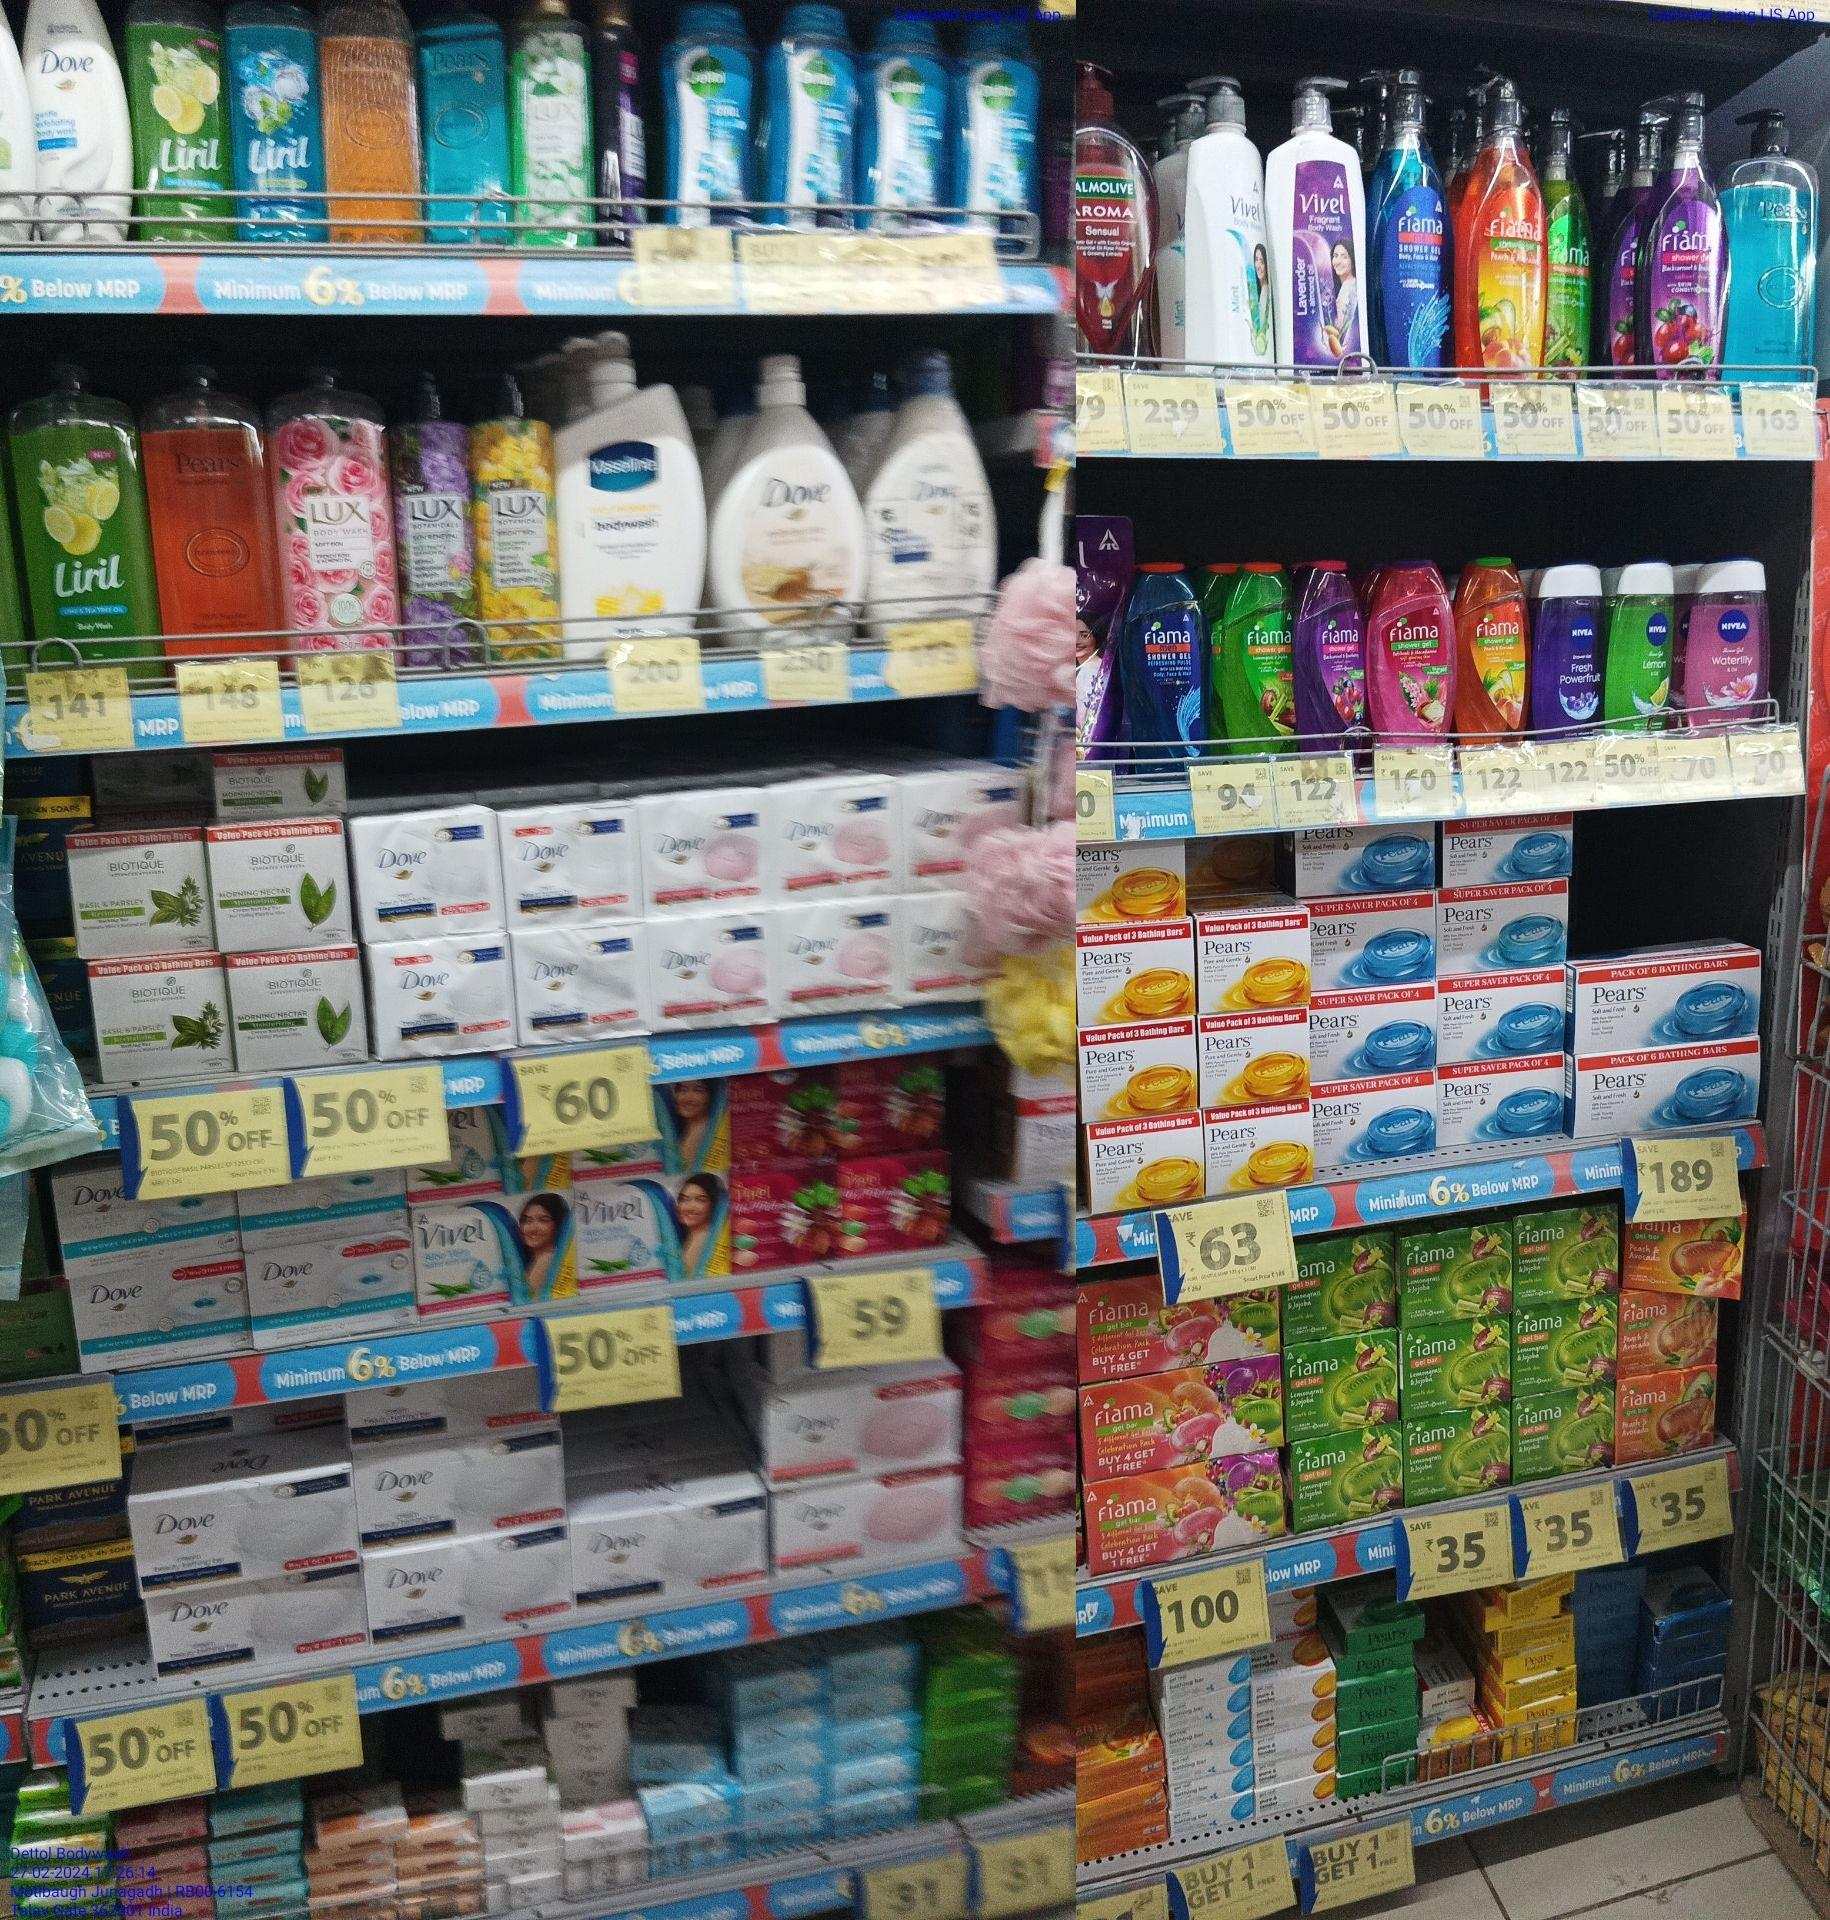Dettol_Bodywash_Cool: (660, 0, 761, 230), (965, 12, 1038, 266), (774, 0, 857, 226), (872, 12, 956, 223)
Dove_Gentle_Exfoliating_Body_Wash_250ML: (22, 0, 127, 247)
Fiama_Shower_Gel_Lemongrass_and_Jojoba_250ML: (1220, 561, 1294, 759)
Fiama_Shower_Gel_Patchouli_and_Macadamia_250ML: (1376, 555, 1456, 746)
Fiama_Shower_Gel_Peach_and_Avocado_250ML: (1458, 552, 1530, 746)
Liril_Cooling_Mint_Body_Wash_250ML: (230, 0, 319, 255)
Liril_Lime_and_Tea_Tree_Oil_Body_Wash_250ML: (132, 7, 226, 252)
Lux_Black_Orchid_Scent_and_Juniper_Oil_Body_Wash_245ML: (595, 0, 649, 255)
Lux_Body_Wash_Skin_Detox_Freesia_Scent_and_Alove_Vera_245ML: (512, 2, 591, 255)
Nivea_Shower_Gel_Fresh_Powerfruit_250ML: (1539, 564, 1607, 730)
Nivea_Shower_Gel_Lemon_and_Oil_250ML: (1618, 559, 1677, 735)
Nivea_Shower_Gel_Waterlily_and_Oil_250ML: (1691, 555, 1773, 732)
Pears_Pure_Glycerin_and_Mint_Extracts_Body_Wash_250ML: (416, 2, 502, 250)
